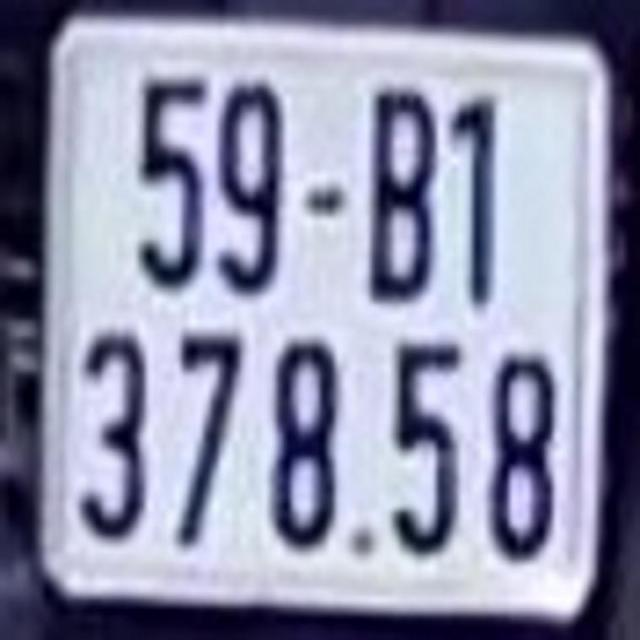1: (454, 97, 498, 305)
3: (88, 332, 146, 548)
5: (136, 80, 204, 292), (394, 340, 459, 556)
7: (167, 333, 246, 550)
8: (489, 348, 554, 559), (274, 335, 337, 544)
9: (217, 82, 280, 290)
B: (372, 92, 430, 300)
